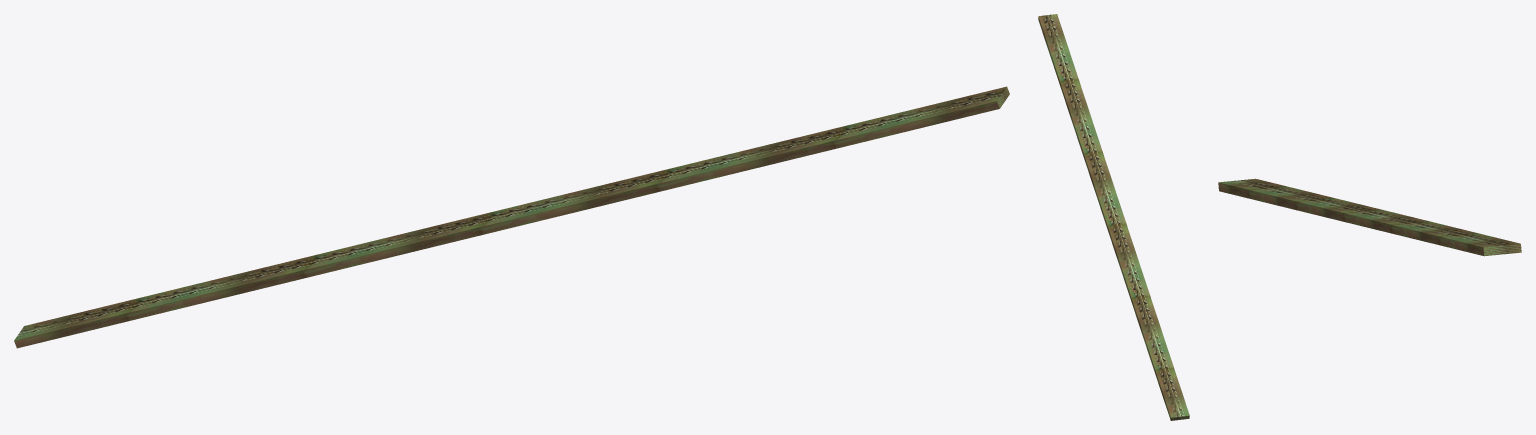
File: GH_1_RoofT_3.gltf
3 renders of one model, left to right at view 1: azimuth 30°, elevation 25°; view 2: azimuth 150°, elevation 25°; view 3: azimuth 330°, elevation 25°, orthographic. The views are drawn at different scales.
Visible parts, largest first — view 1: GH_1_RoofT_3; view 2: GH_1_RoofT_3; view 3: GH_1_RoofT_3.
Boxes of the visible parts, x1,y1,x2,y2 form: GH_1_RoofT_3: [14, 86, 1009, 348]; GH_1_RoofT_3: [1038, 14, 1189, 420]; GH_1_RoofT_3: [1218, 178, 1521, 256].
Bounding box in the file's own units: 3.58 × 1.93 × 3.64.
1 material, 1 textured.
